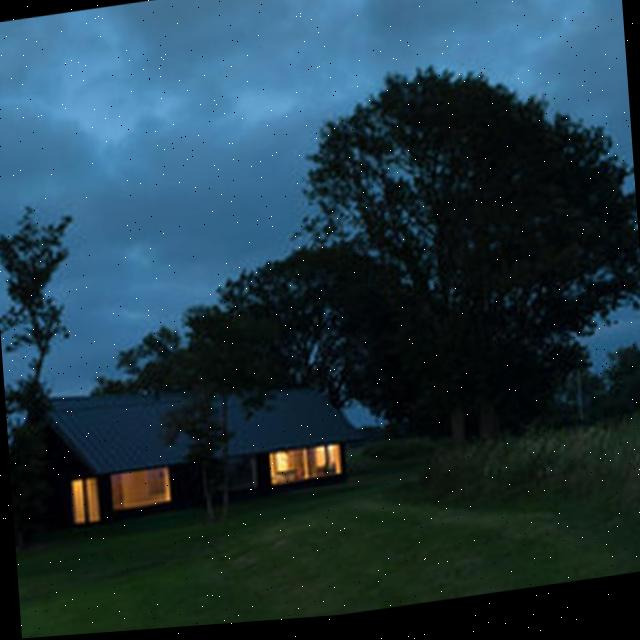building: (28, 347, 364, 545)
